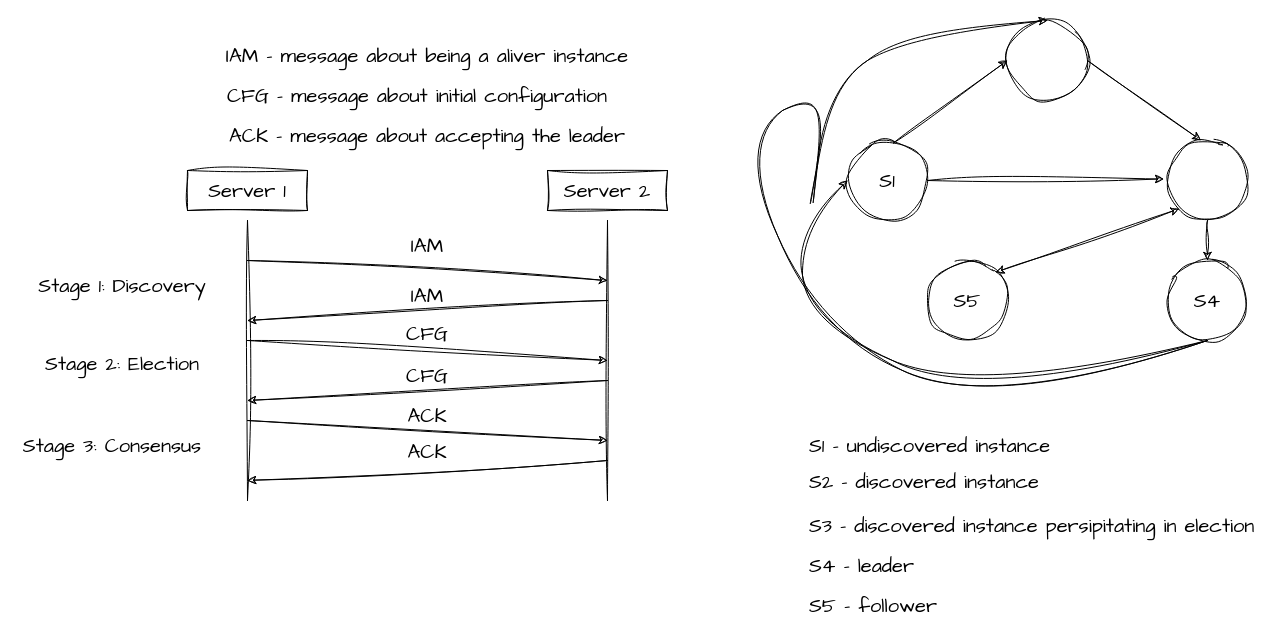
The diagram is 1284 pixels wide and 638 high, and some of its shapes have lost their labels. Here are the shapes that lost their labels. From the top down, the box of each, then its label:
(1006, 20, 1088, 100): S2
(1166, 140, 1248, 220): S3
